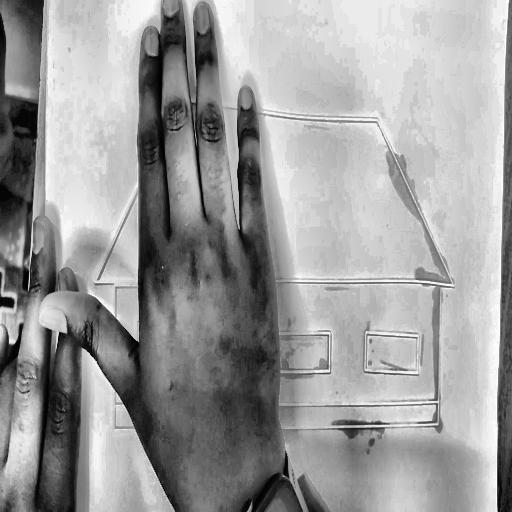house: (83, 54, 468, 454)
